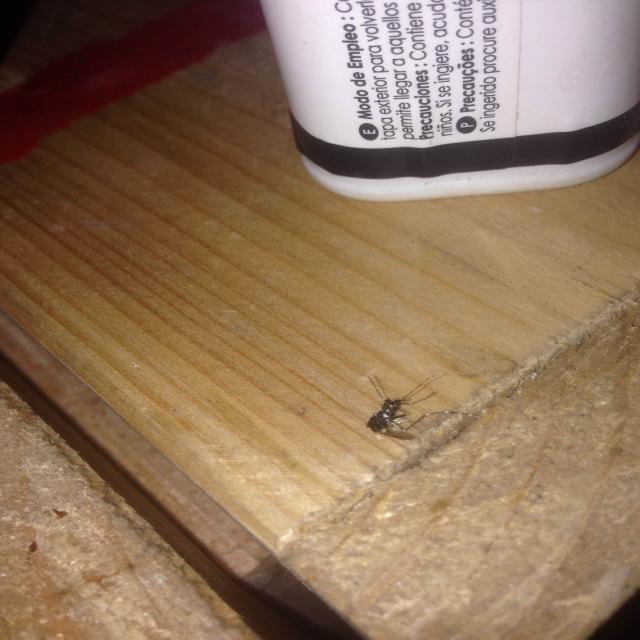albopictus: (351, 366, 478, 450)
